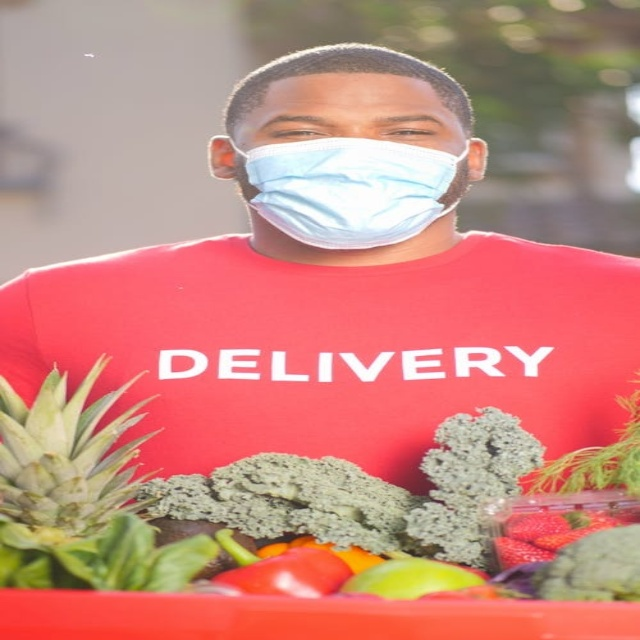Mascara: (234, 135, 469, 248)
Sin_gafas: (256, 106, 445, 141)
